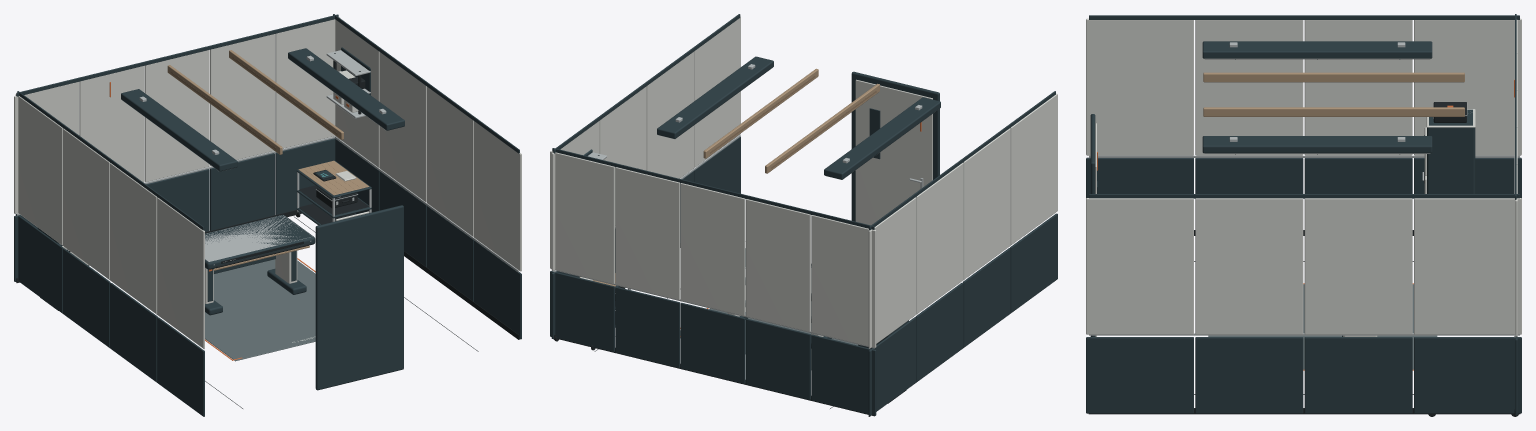
File: MetrologyLab.glb
The picture shows the model from 3 angles, left to right: view 1: azimuth 30°, elevation 25°; view 2: azimuth 150°, elevation 25°; view 3: azimuth 270°, elevation 25°; orthographic projection. The views are drawn at different scales.
Visible parts, largest first — view 1: environment_Lab_WarmCeramic, environment_Lab_DeepPetrolPowdercoat, environment_Lab_EpoxyFloor, environment_Lab_SatinAluminum, environment_Lab_PaleAsh, environment_Lab_GraphiteElastomer, environment_Lab_AshGrain; view 2: environment_Lab_WarmCeramic, environment_Lab_DeepPetrolPowdercoat, environment_Lab_PaleAsh, environment_Lab_SatinAluminum, environment_Lab_AshGrain, environment_Lab_GraphiteElastomer; view 3: environment_Lab_WarmCeramic, environment_Lab_DeepPetrolPowdercoat, environment_Lab_PaleAsh, environment_Lab_SatinAluminum, environment_Lab_GraphiteElastomer, environment_Lab_EpoxyFloor.
Boxes of the visible parts, x1,y1,x2,y2 form: environment_Lab_WarmCeramic: (14,17,521,348); environment_Lab_DeepPetrolPowdercoat: (14,14,521,416); environment_Lab_EpoxyFloor: (205,259,315,361); environment_Lab_SatinAluminum: (17,50,518,348); environment_Lab_PaleAsh: (167,50,369,270); environment_Lab_GraphiteElastomer: (16,53,519,416); environment_Lab_AshGrain: (170,57,358,269); environment_Lab_WarmCeramic: (550,16,1057,348); environment_Lab_DeepPetrolPowdercoat: (550,14,1057,416); environment_Lab_PaleAsh: (579,68,879,286); environment_Lab_SatinAluminum: (554,64,1010,348); environment_Lab_AshGrain: (710,75,876,168); environment_Lab_GraphiteElastomer: (553,155,1010,416); environment_Lab_WarmCeramic: (1086,18,1521,336); environment_Lab_DeepPetrolPowdercoat: (1086,14,1521,415); environment_Lab_PaleAsh: (1203,72,1464,116); environment_Lab_SatinAluminum: (1089,42,1519,337); environment_Lab_GraphiteElastomer: (1089,102,1519,416); environment_Lab_EpoxyFloor: (1208,284,1437,369).
Bounding box in the file's own units: 4.99 × 3 × 4.98.
